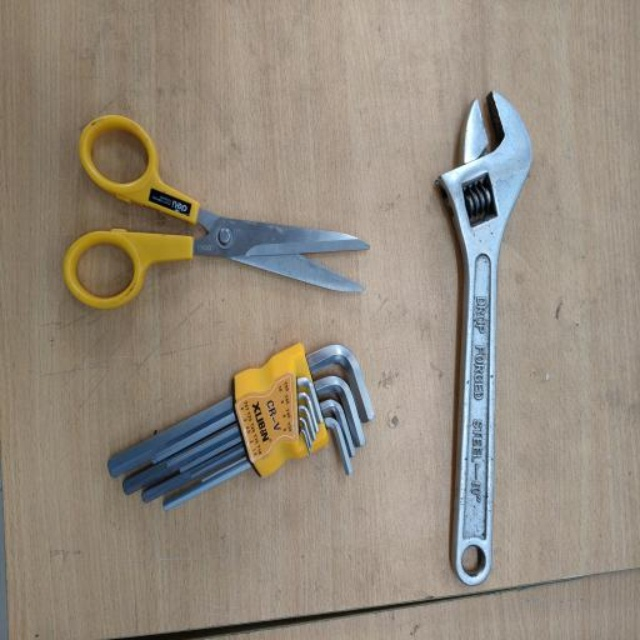scissor: (58, 108, 375, 313)
